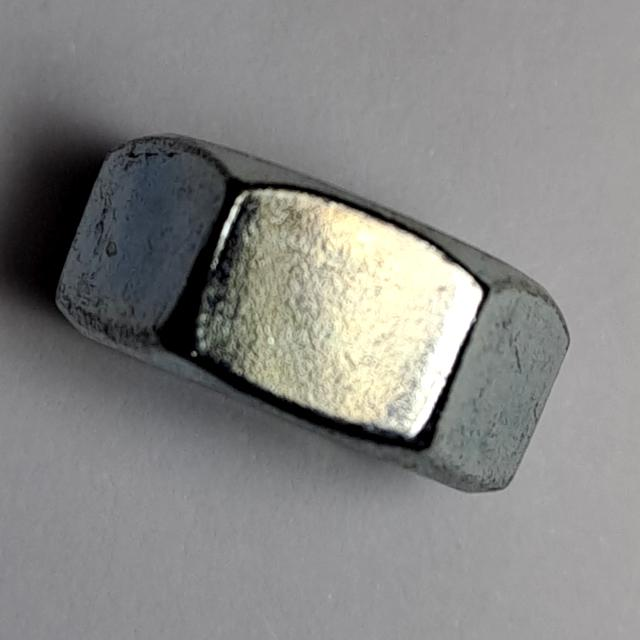Side_Excellent: (49, 115, 578, 501)
